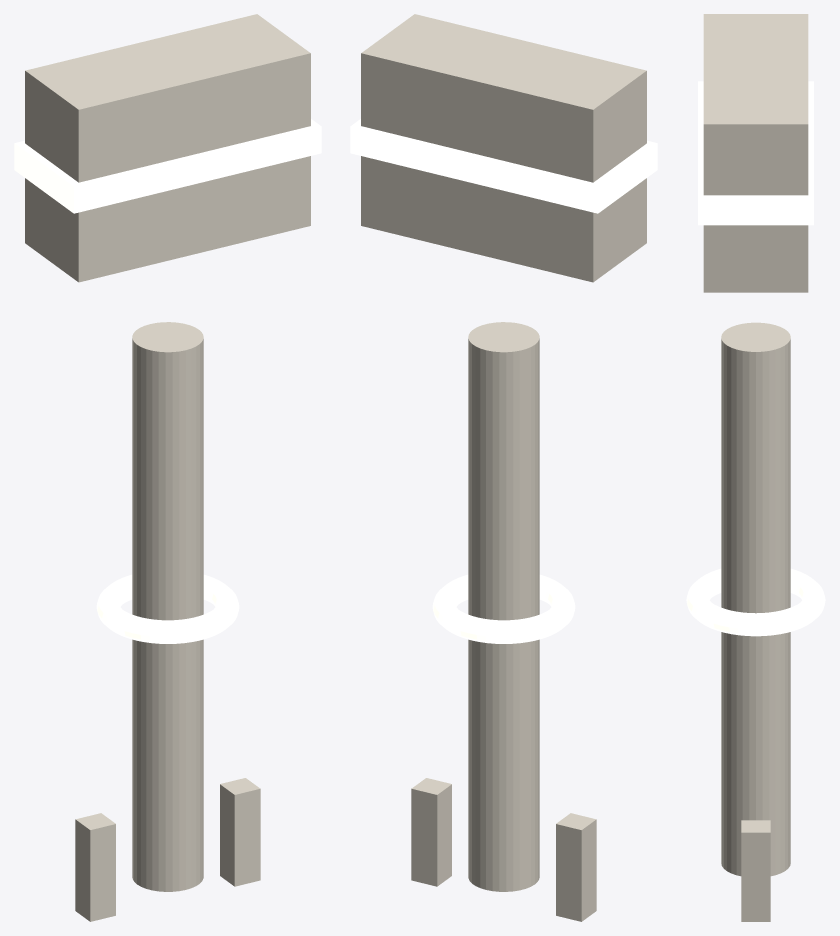
File: GiantSkeletonKey.fbx
The picture shows the model from 3 angles, left to right: view 1: azimuth 30°, elevation 25°; view 2: azimuth 150°, elevation 25°; view 3: azimuth 270°, elevation 25°; orthographic projection. The views are drawn at different scales.
Parts seen in each view (by area): view 1: GiantSkeletonKey; view 2: GiantSkeletonKey; view 3: GiantSkeletonKey.
Part boxes in pixels (x1,y1,x2,y2): GiantSkeletonKey: [14, 14, 321, 921]; GiantSkeletonKey: [350, 14, 657, 921]; GiantSkeletonKey: [686, 14, 825, 921].
Bounding box in the file's own units: 48 × 155 × 24.
